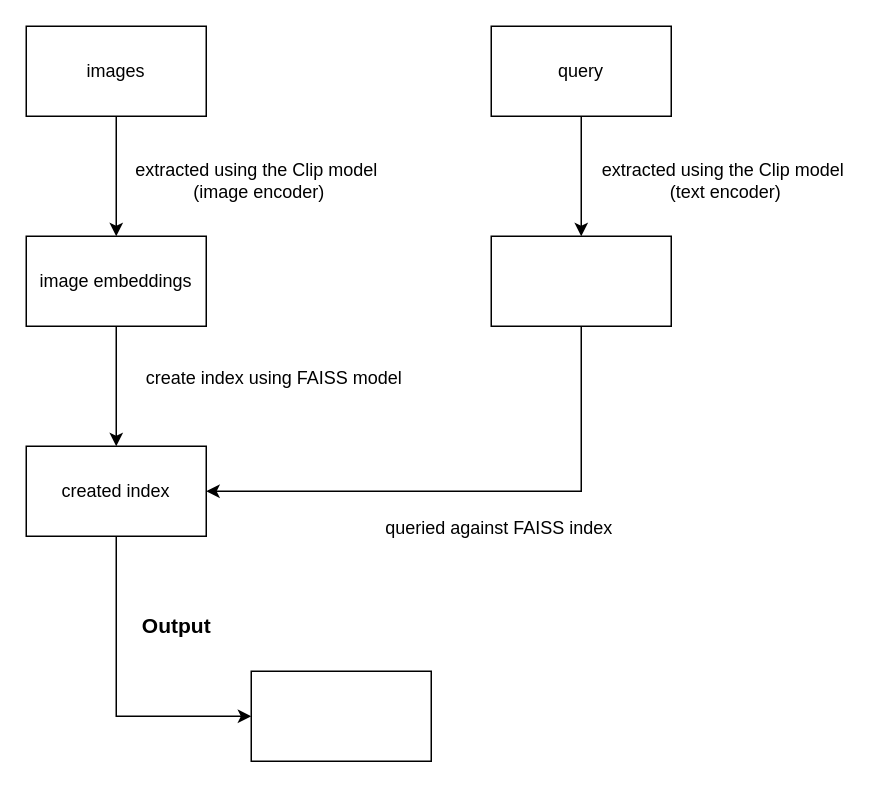
Image size: 894x788. Some labels were removed from this diagram. The shapes that lost their labels are listed below. From the top down, each one's box as (x1, y1, x2, y2) in pixels, then its label:
(490, 235, 671, 326): embeddings of the query
(250, 670, 431, 761): Top N images
